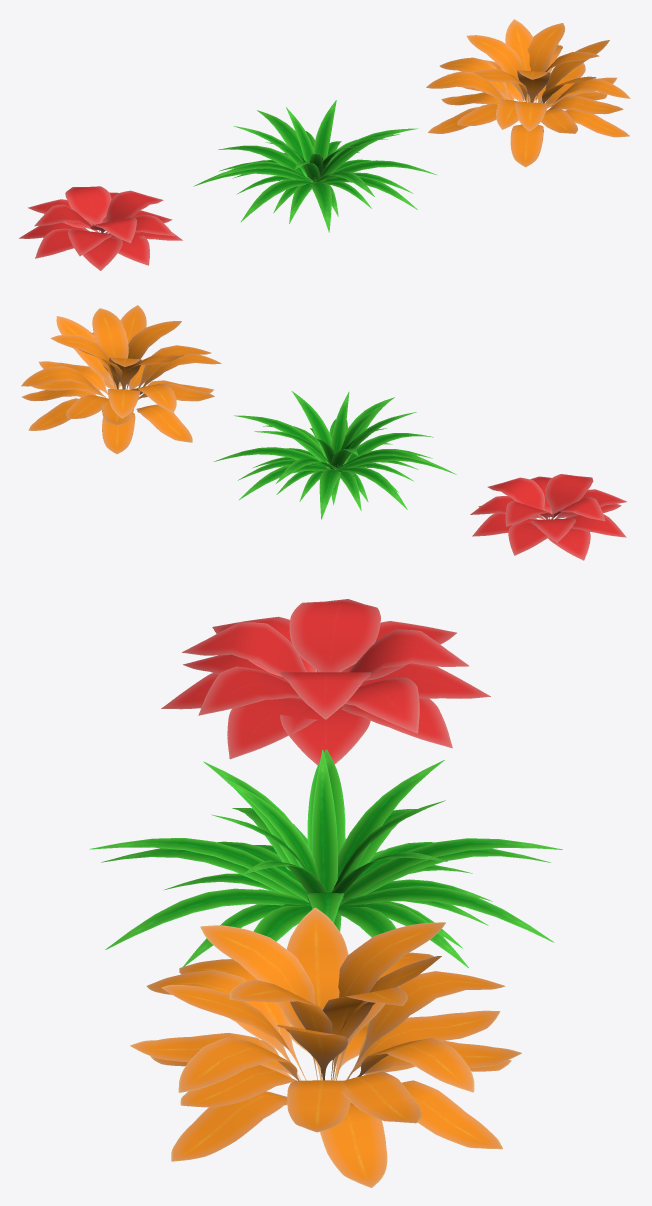
File: simplePlants_edit_for_FBX.fbx
The picture shows the model from 3 angles, top to bottom: view 1: azimuth 30°, elevation 25°; view 2: azimuth 150°, elevation 25°; view 3: azimuth 270°, elevation 25°; orthographic projection. The views are drawn at different scales.
Visible parts, largest first — view 1: Plants01, Plants02, Plants03; view 2: Plants01, Plants02, Plants03; view 3: Plants01, Plants02, Plants03.
Boxes of the visible parts, x1,y1,x2,y2 form: Plants01: (426, 19, 630, 167); Plants02: (193, 100, 437, 232); Plants03: (19, 186, 182, 270); Plants01: (21, 305, 221, 454); Plants02: (213, 391, 456, 519); Plants03: (470, 474, 626, 560); Plants01: (130, 907, 521, 1187); Plants02: (89, 749, 562, 967); Plants03: (161, 599, 490, 765).
Size of the model in its own units: 520 by 80.18 by 180.
